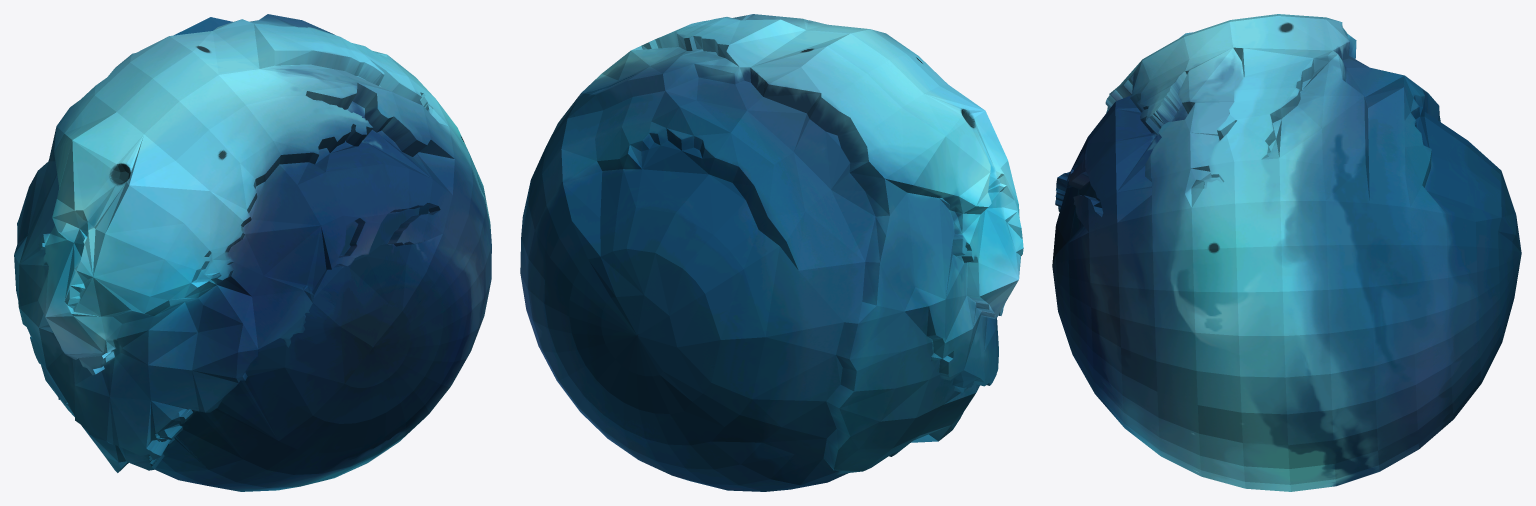
File: Skysphere.obj
3 renders of one model, left to right at view 1: azimuth 30°, elevation 25°; view 2: azimuth 150°, elevation 25°; view 3: azimuth 270°, elevation 25°, orthographic. The views are drawn at different scales.
Parts seen in each view (by area): view 1: Object.1; view 2: Object.1; view 3: Object.1.
Part boxes in pixels (left/top/right/bottom): Object.1: left=14, top=14, right=491, bottom=491; Object.1: left=520, top=14, right=1023, bottom=491; Object.1: left=1052, top=14, right=1521, bottom=491.
Size of the model in its own units: 276 by 261 by 262.
Materials: 1 (1 with a texture image).
